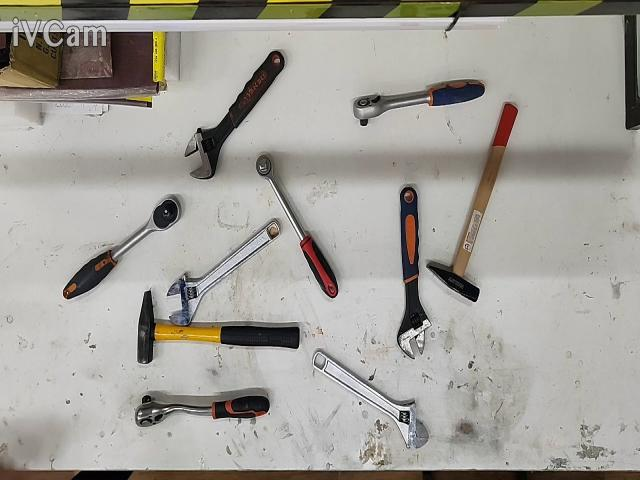Adjustable spanner: (185, 50, 285, 178), (168, 220, 280, 325), (312, 350, 429, 448), (398, 185, 431, 359)
Hammer: (428, 103, 518, 302), (138, 290, 300, 363)
Ratchet: (62, 196, 181, 299), (256, 155, 339, 298), (354, 80, 485, 126), (135, 395, 270, 427)
